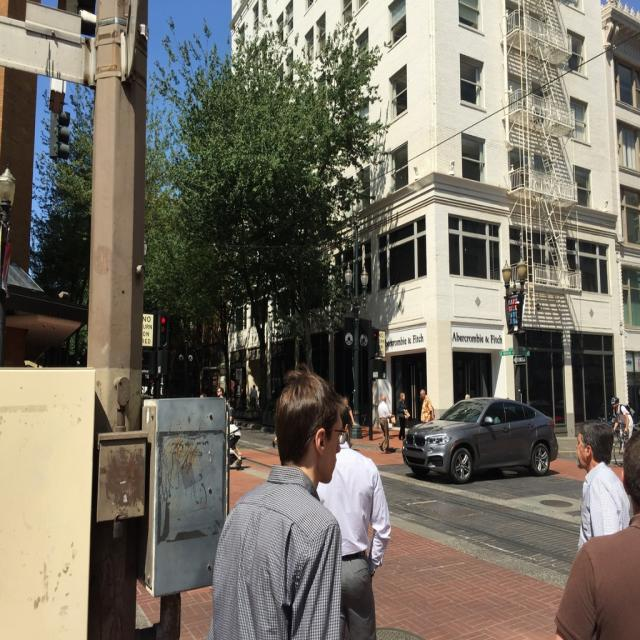car: (401, 389, 558, 485)
